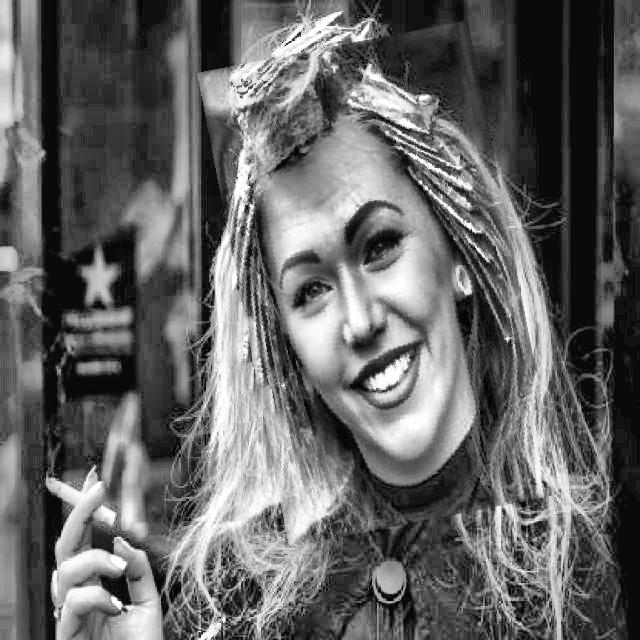happy: (219, 31, 539, 536)
